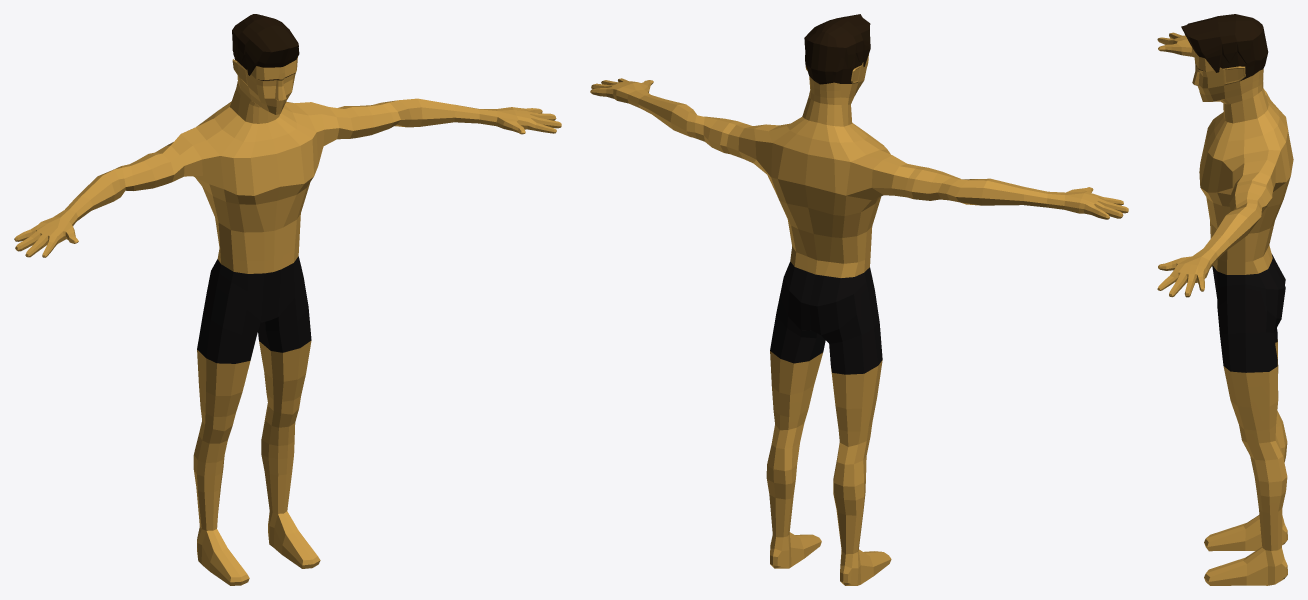
The picture shows the model from 3 angles, left to right: view 1: azimuth 30°, elevation 25°; view 2: azimuth 150°, elevation 25°; view 3: azimuth 270°, elevation 25°; orthographic projection.
Parts seen in each view (by area): view 1: CharacterModel.001_Cube.001; view 2: CharacterModel.001_Cube.001; view 3: CharacterModel.001_Cube.001.
Boxes of the visible parts, x1,y1,x2,y2 form: CharacterModel.001_Cube.001: [14, 14, 561, 585]; CharacterModel.001_Cube.001: [590, 14, 1128, 585]; CharacterModel.001_Cube.001: [1157, 14, 1293, 585].
Bounding box in the file's own units: 7.02 × 6.81 × 1.54.
